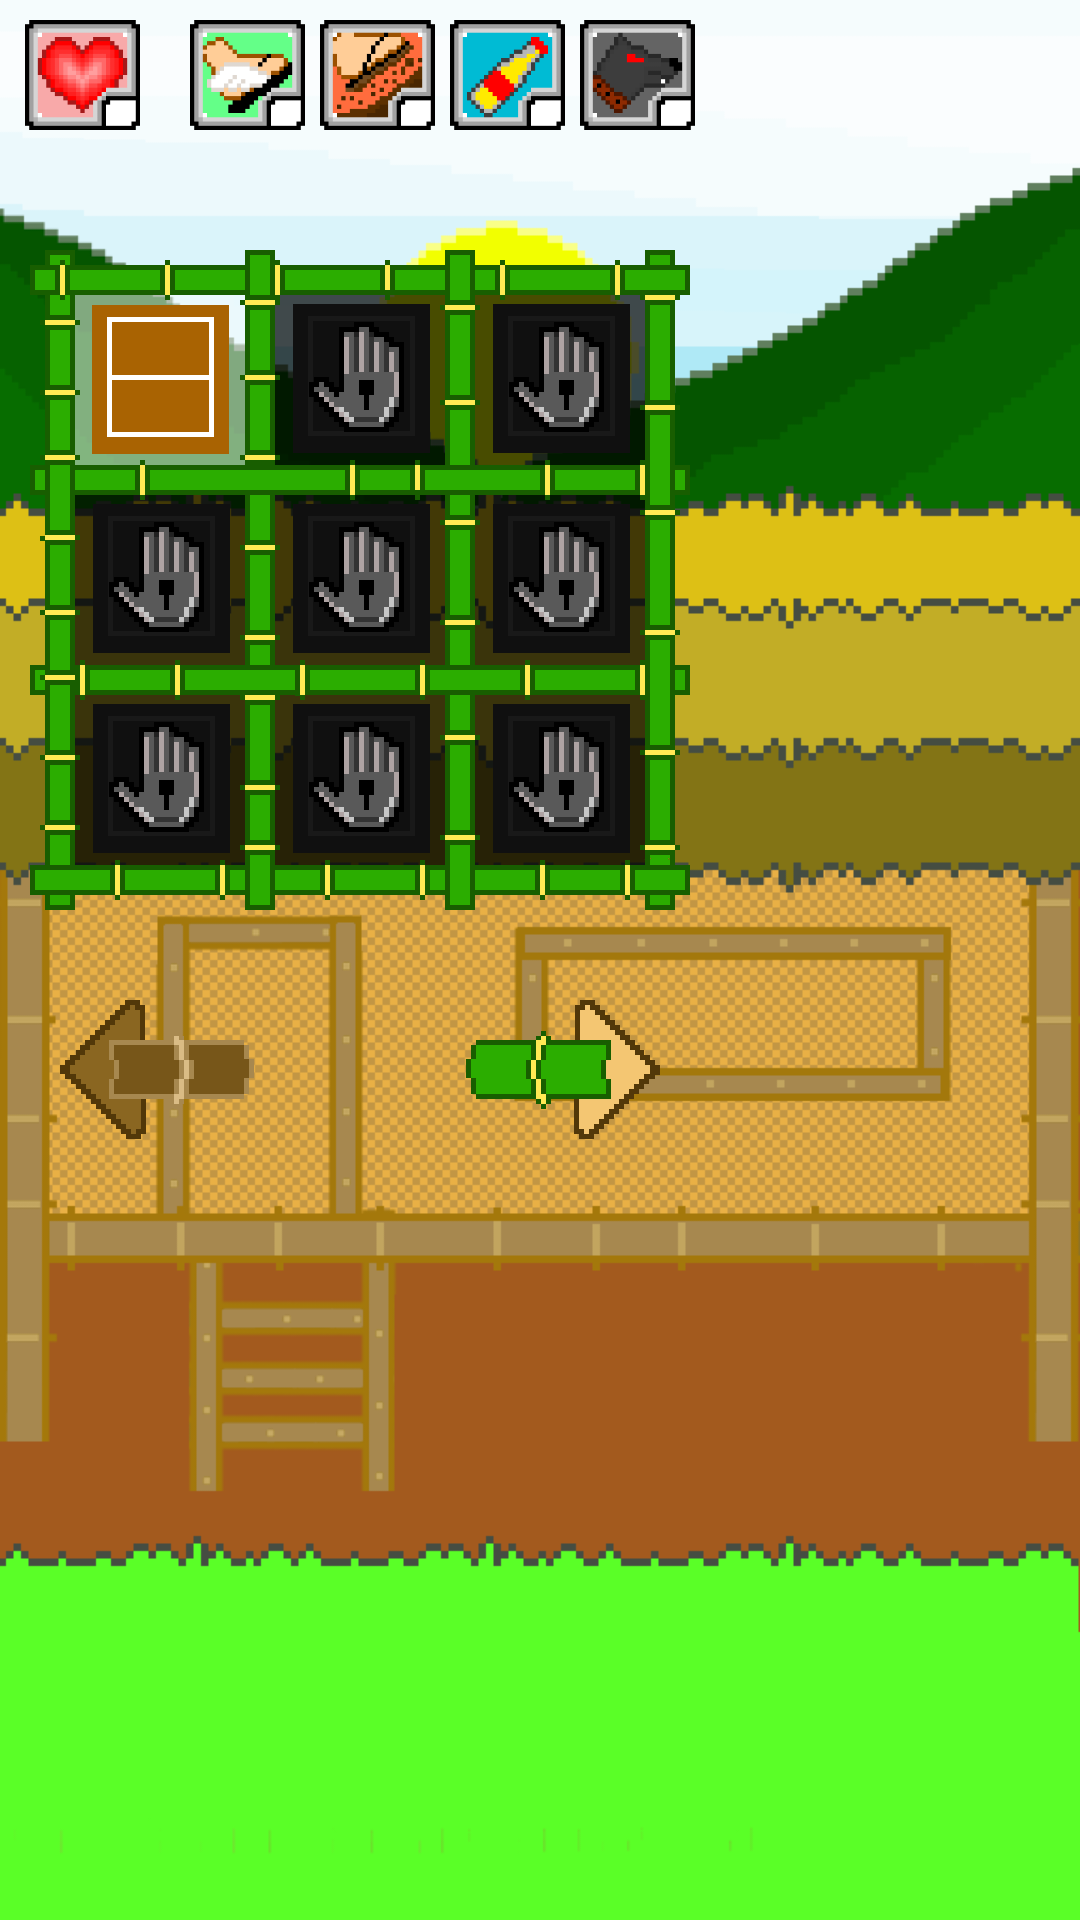

Point at icon controls on the screen. Image size 1080px x 1920px, points as [x,y].
invincibility status: [637,75]
lives status: [82,75]
next: [563,1069]
previous: [157,1069]
slow status: [377,75]
speed boost status: [247,75]
unlimited stamina status: [507,75]
